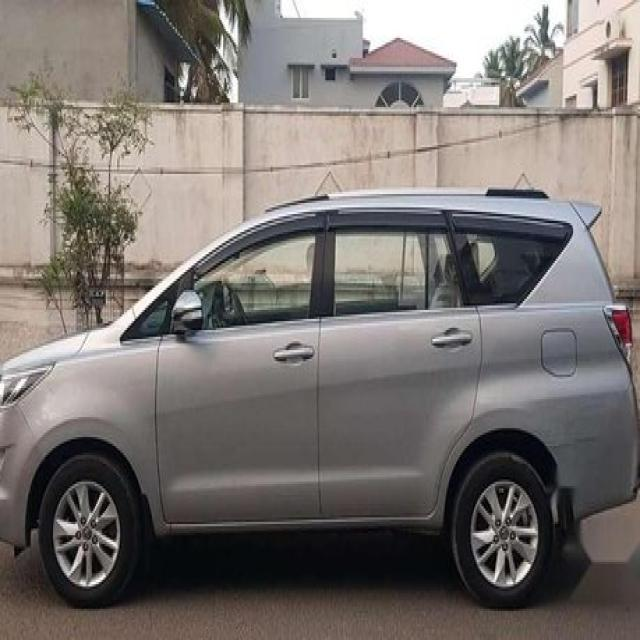light_vehicle: (1, 186, 639, 612)
